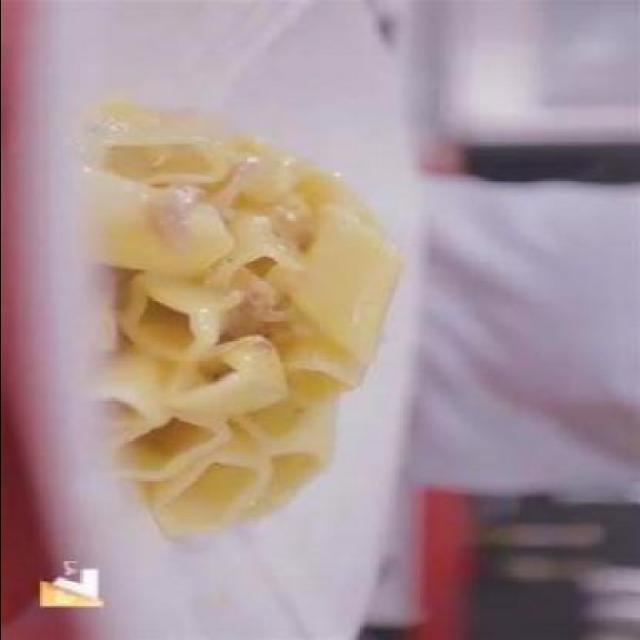Pasta with carbonara sauce: (80, 99, 448, 582)
